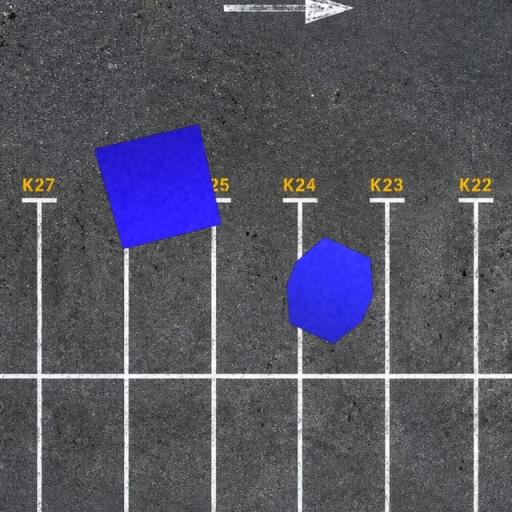BLUE_SQUARE: (94, 124, 222, 250)
